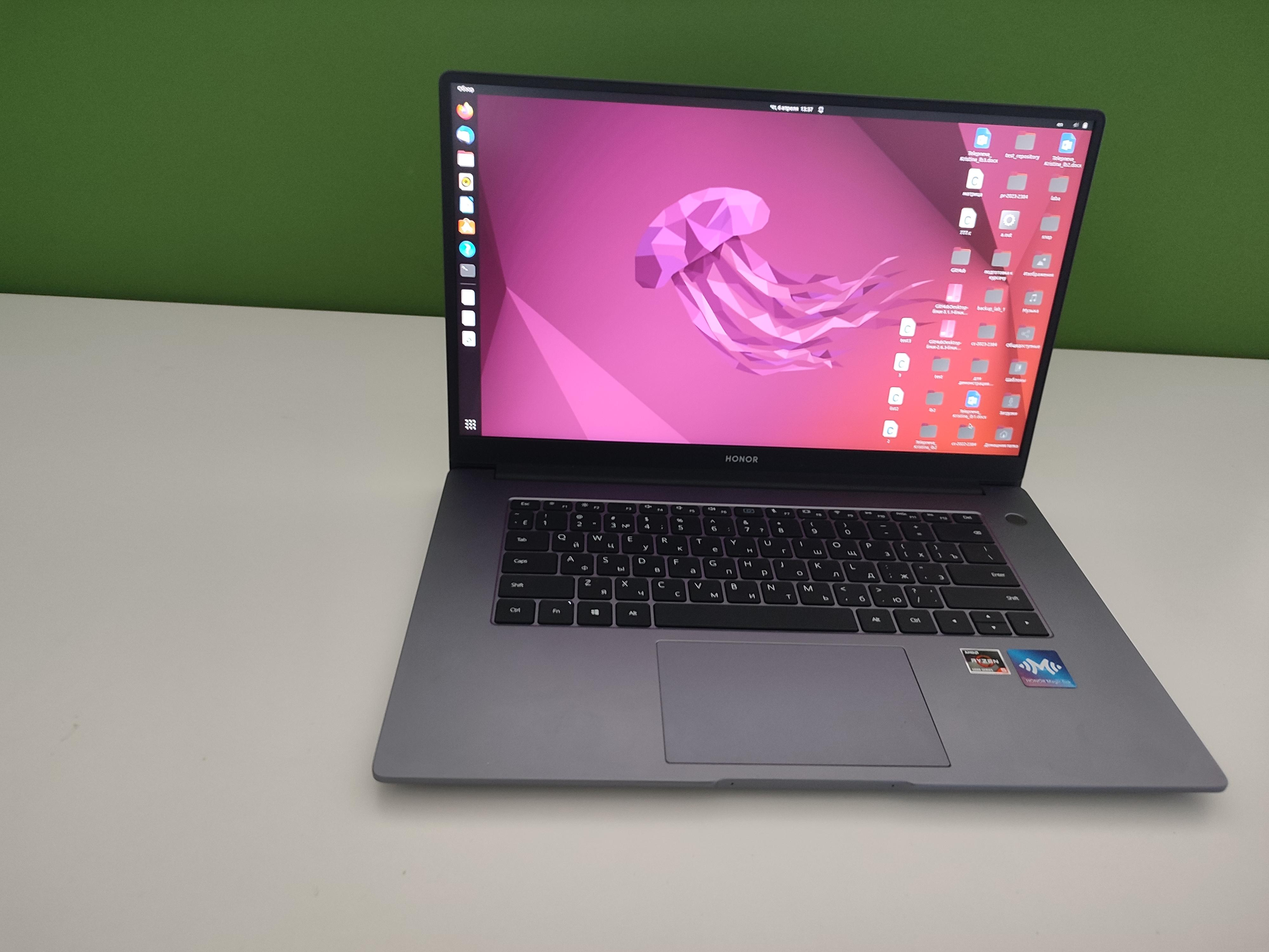monitor: (424, 63, 1118, 490)
